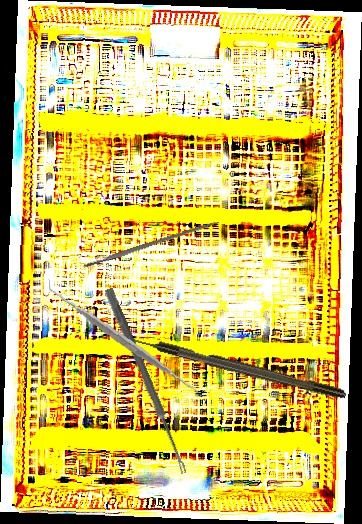Hook Surgical: (116, 329, 348, 402)
Scalpel Handle: (81, 219, 220, 269)
Spatula Surgical: (48, 267, 199, 413)
Surgical Spoon: (103, 287, 190, 475)
